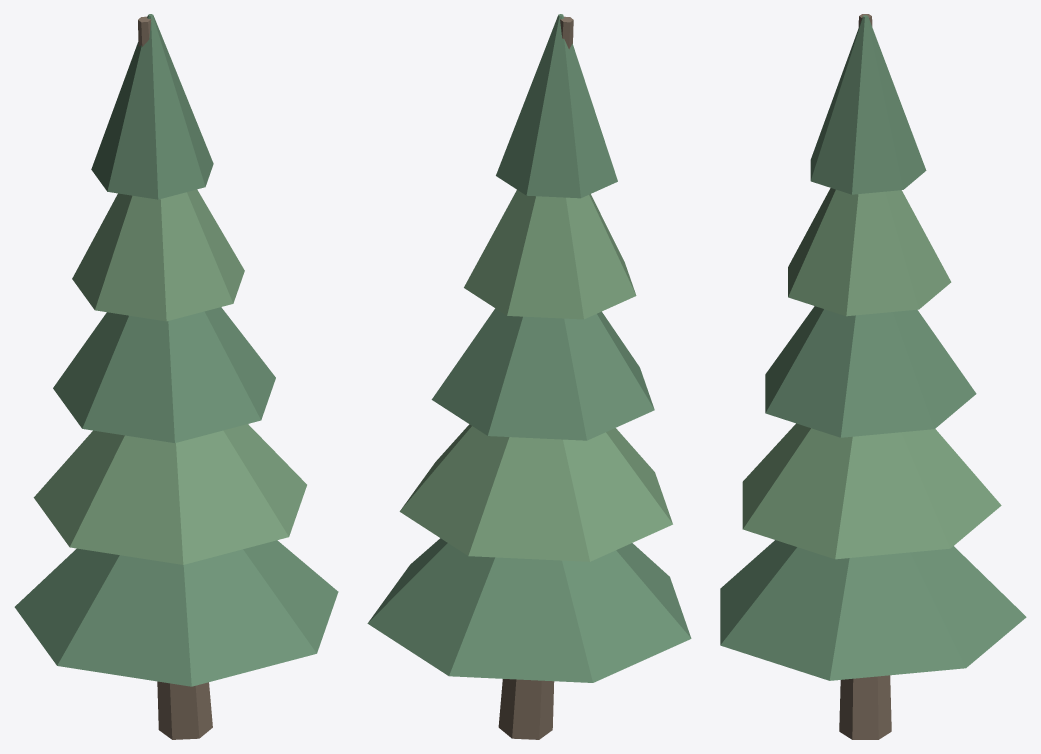
Rendered from pine_v31.glb.
3 renders of one model, left to right at view 1: azimuth 30°, elevation 25°; view 2: azimuth 150°, elevation 25°; view 3: azimuth 270°, elevation 25°, orthographic. The views are drawn at different scales.
Visible parts, largest first — view 1: lod0; view 2: lod0; view 3: lod0.
Part boxes in pixels (left/top/right/bottom): lod0: left=14, top=14, right=338, bottom=739; lod0: left=367, top=14, right=691, bottom=739; lod0: left=720, top=14, right=1026, bottom=739.
Size of what is drawn, in the model's own units: 2.39 by 5.88 by 2.34.
